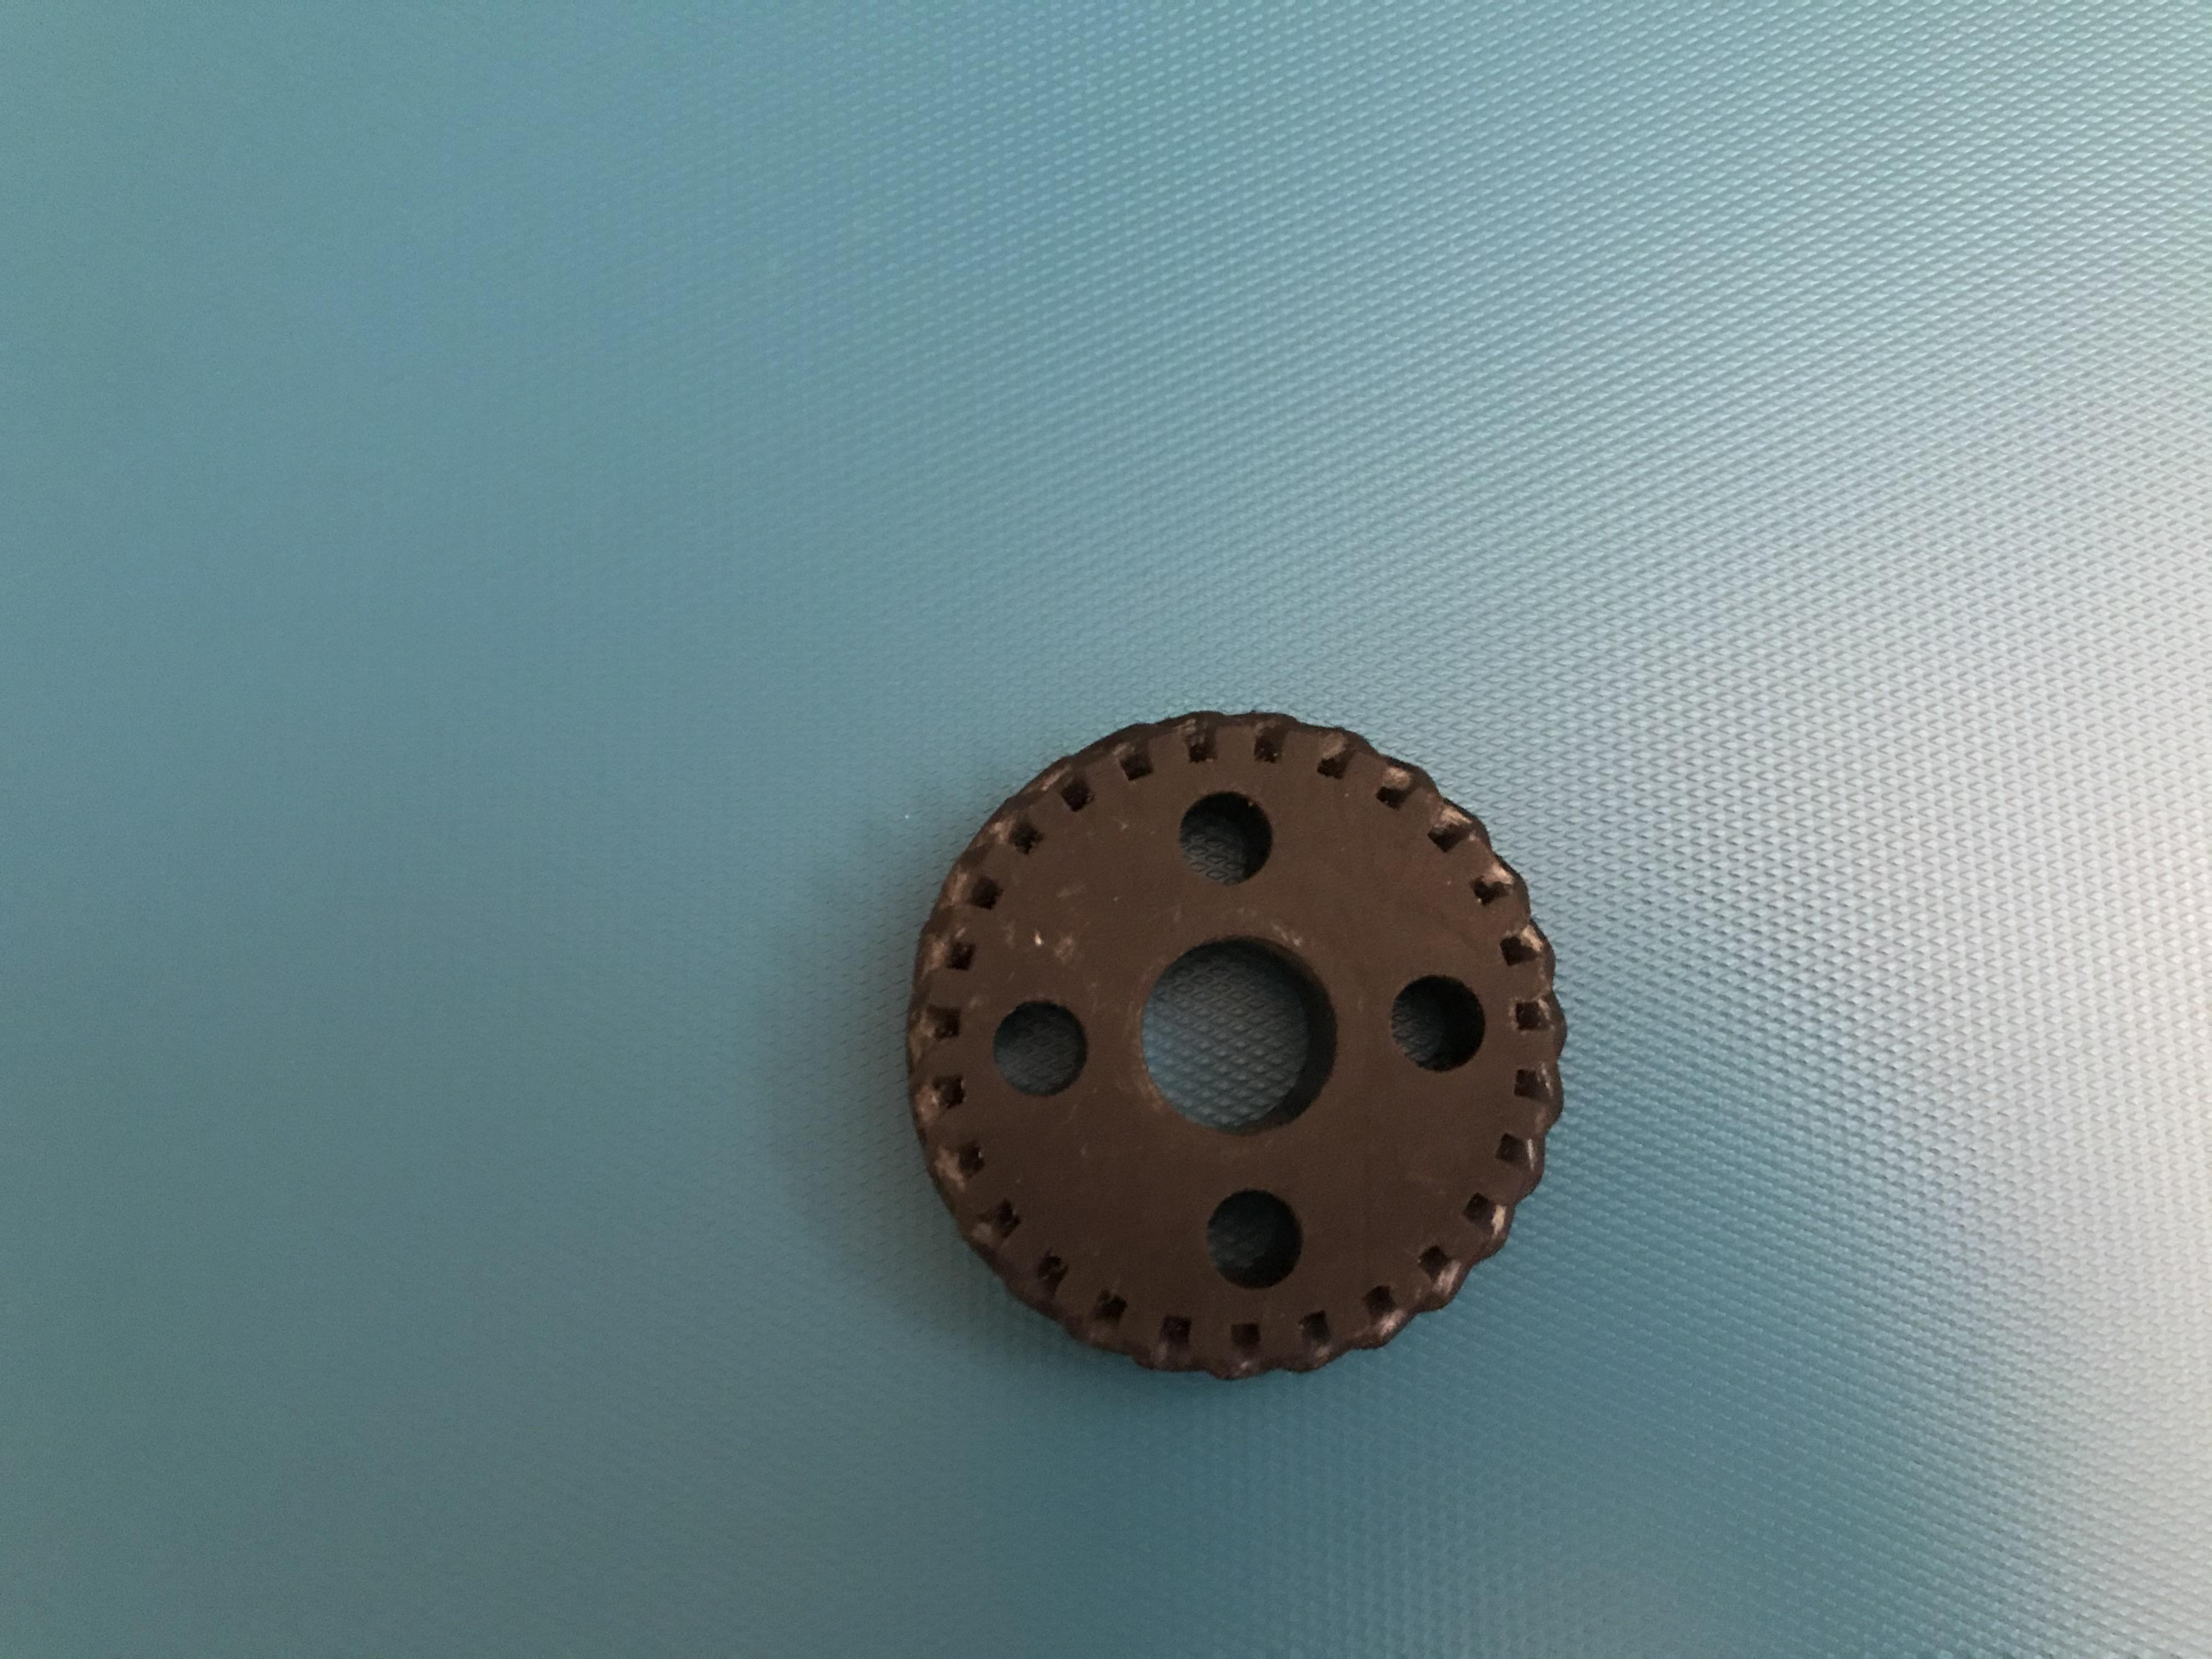Wheel: (890, 688, 1580, 1396)
